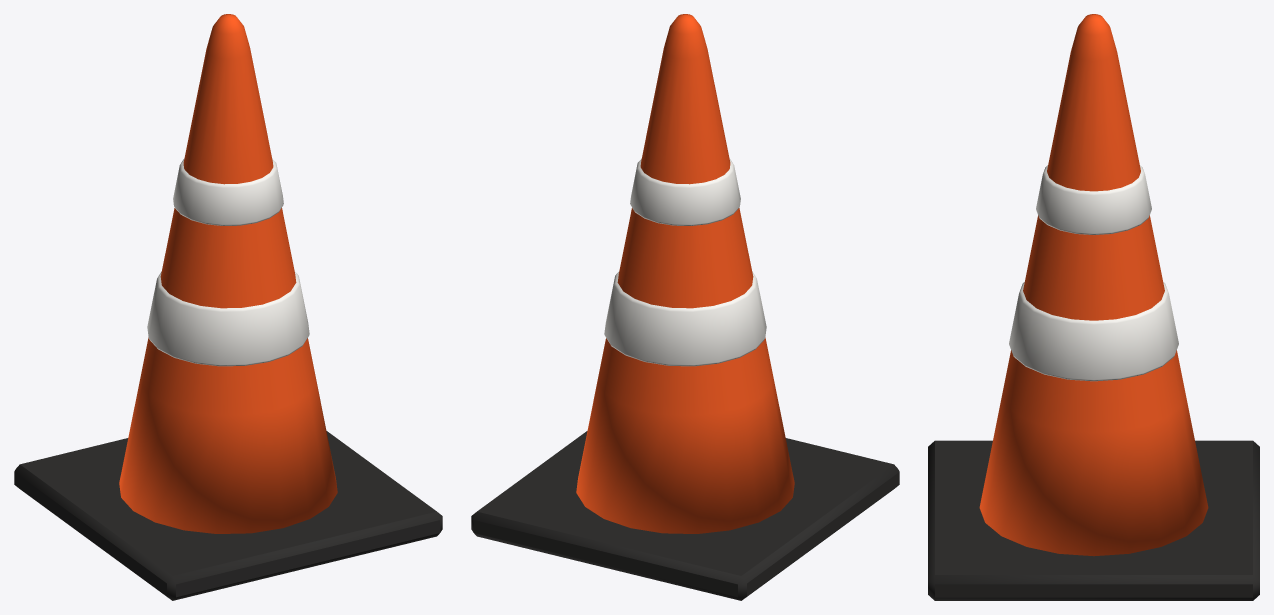
Rendered from tiny-traffic-cone.glb.
3 renders of one model, left to right at view 1: azimuth 30°, elevation 25°; view 2: azimuth 150°, elevation 25°; view 3: azimuth 270°, elevation 25°, orthographic. The views are drawn at different scales.
Visible parts, largest first — view 1: tiny-traffic-cone; view 2: tiny-traffic-cone; view 3: tiny-traffic-cone.
Part boxes in pixels (x1,y1,x2,y2): tiny-traffic-cone: [14, 14, 442, 600]; tiny-traffic-cone: [471, 14, 899, 600]; tiny-traffic-cone: [928, 14, 1259, 600].
Bounding box in the file's own units: 0.0522 × 0.09 × 0.0522.
